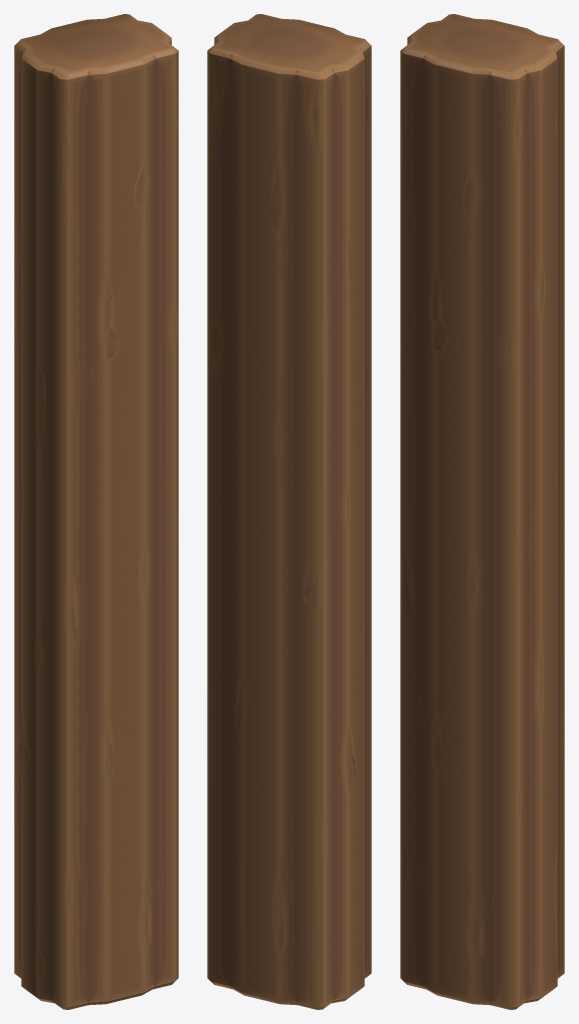
Rendered from ARC0510079.fbx.
3 renders of one model, left to right at view 1: azimuth 30°, elevation 25°; view 2: azimuth 150°, elevation 25°; view 3: azimuth 330°, elevation 25°, orthographic.
Visible parts, largest first — view 1: smARC0510079; view 2: smARC0510079; view 3: smARC0510079.
Boxes of the visible parts, x1,y1,x2,y2 form: smARC0510079: (14, 14, 178, 1009); smARC0510079: (207, 14, 371, 1009); smARC0510079: (400, 14, 564, 1009).
Size of the model in its own units: 44.91 by 300 by 33.68.
1 material, 1 textured.
